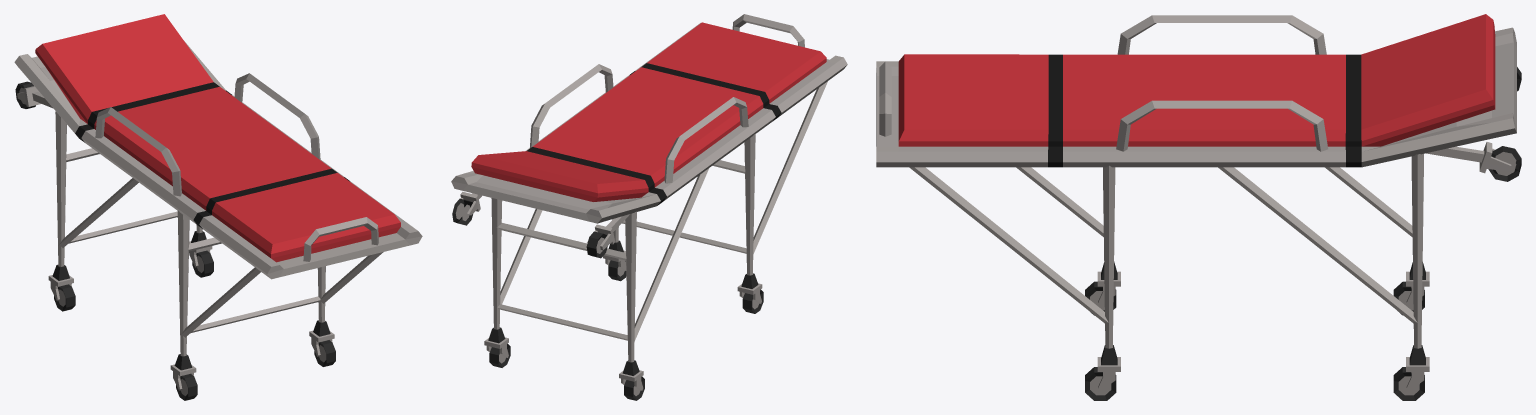
File: apocalypse_stretcher-loading-b.fbx
The picture shows the model from 3 angles, left to right: view 1: azimuth 30°, elevation 25°; view 2: azimuth 150°, elevation 25°; view 3: azimuth 270°, elevation 25°; orthographic projection. The views are drawn at different scales.
Parts seen in each view (by area): view 1: apocalypse_stretcher_loading_b; view 2: apocalypse_stretcher_loading_b; view 3: apocalypse_stretcher_loading_b.
Boxes of the visible parts, bbox=[...] form: apocalypse_stretcher_loading_b: bbox=[14, 14, 422, 400]; apocalypse_stretcher_loading_b: bbox=[451, 14, 847, 400]; apocalypse_stretcher_loading_b: bbox=[876, 14, 1521, 400].
Size of the model in its own units: 70.18 by 104 by 200.
